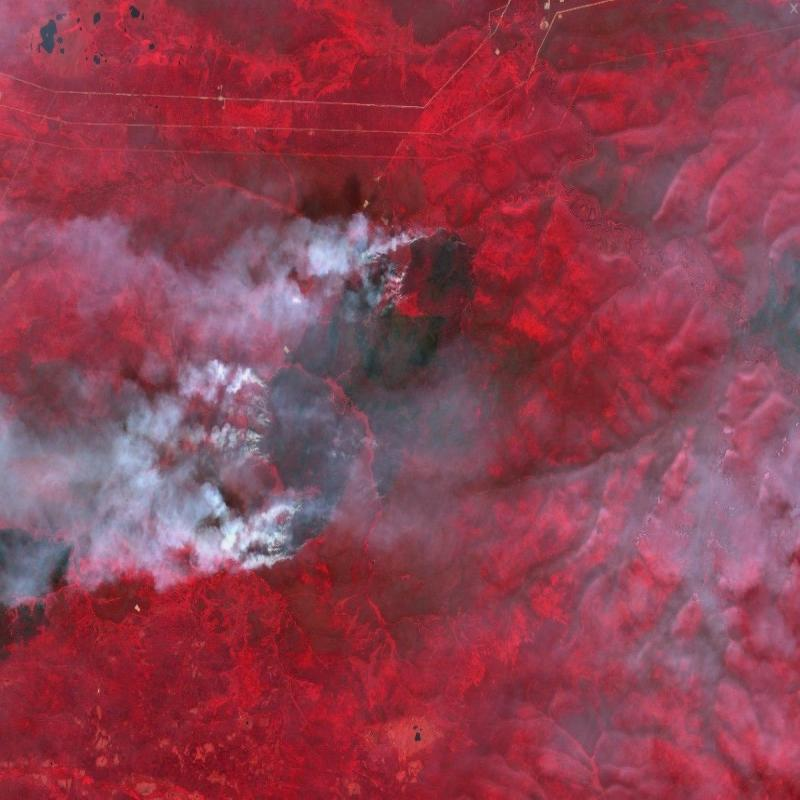fire: (244, 360, 411, 568)
